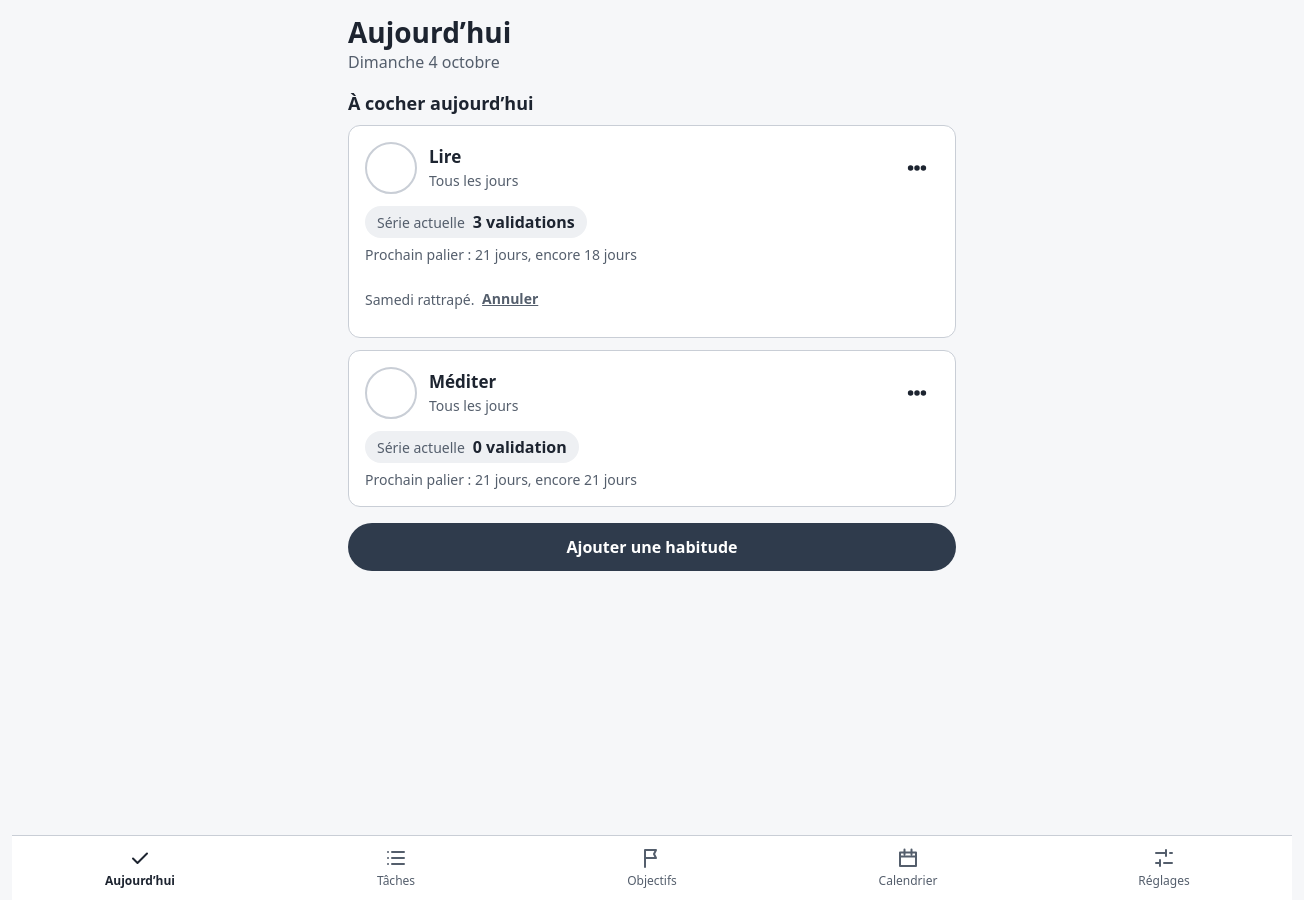
calendrier : vue globale › affiche le détail d’un jour touché : habitudes et tâches
expect the heading "Aujourd’hui" is shown: met, box [348,13,511,51]
Click the button "Calendrier" at (908, 868), box [780,836,1036,899]
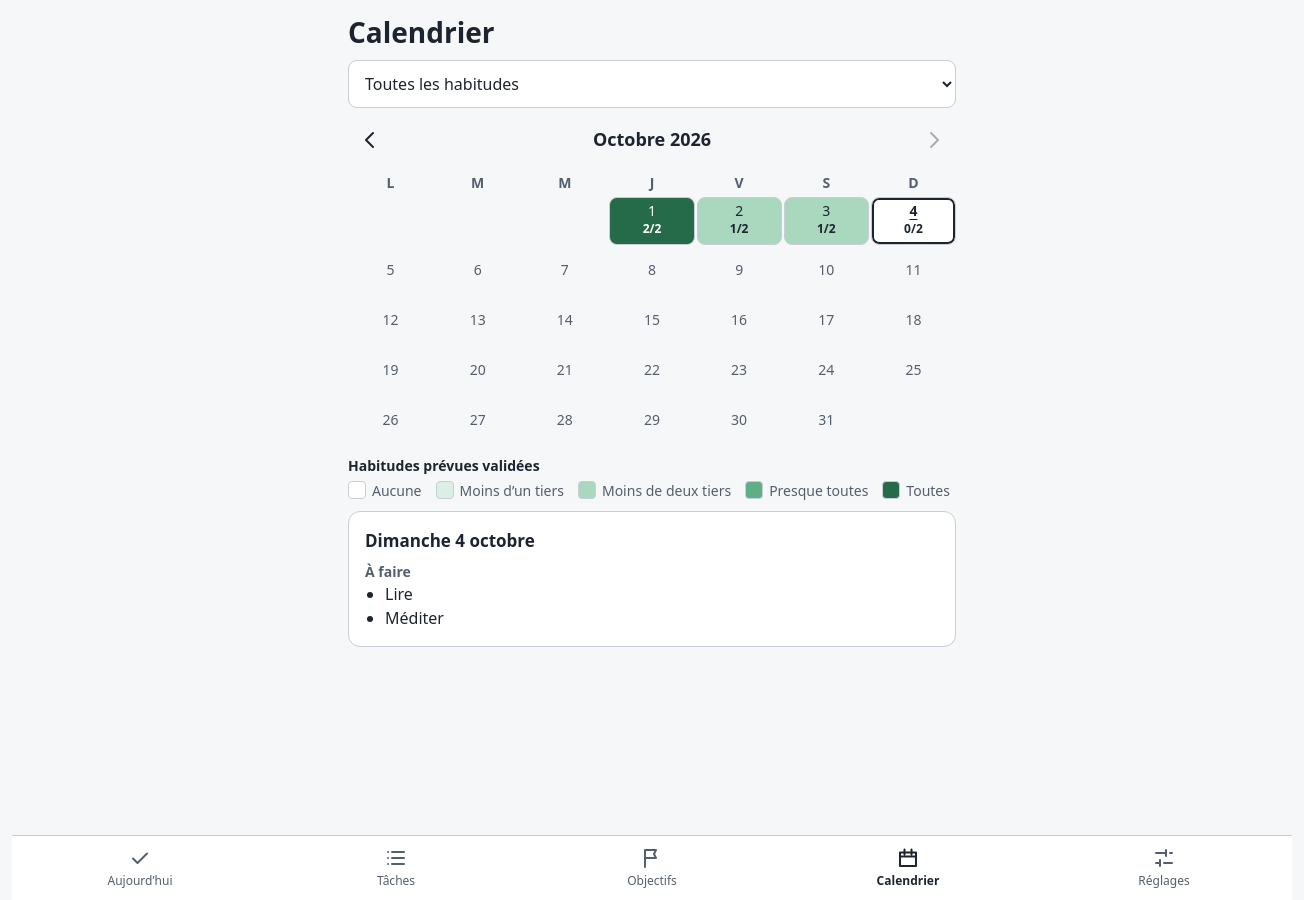
Click the button named "3 octobre" at (826, 221), box [784,197,869,245]
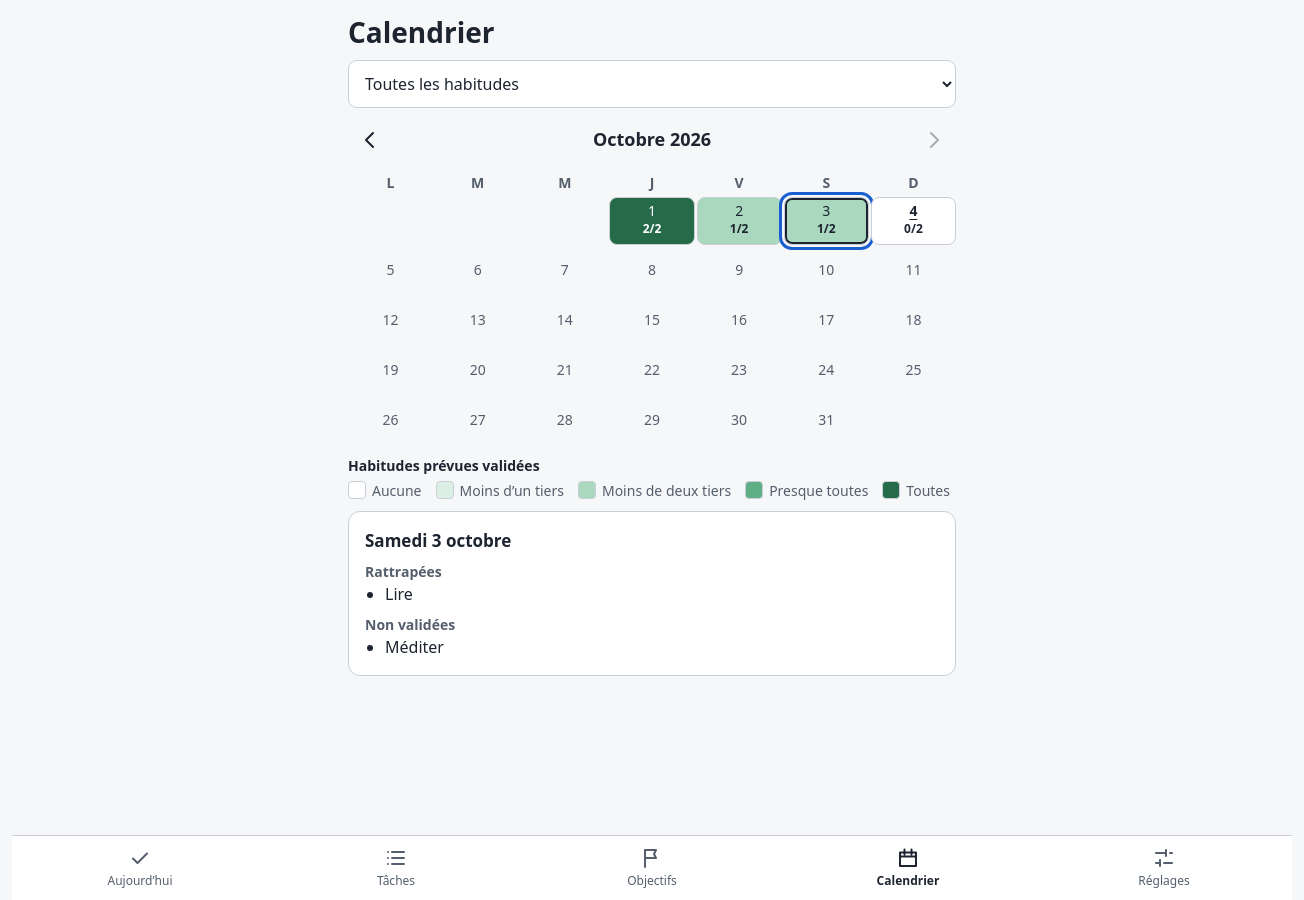
expect the heading "Rattrapées" is shown: met, box [365,562,442,581]
expect the heading "Non validées" is shown: met, box [365,615,455,634]
Click the button named "2 octobre" at (739, 221), box [697,197,782,245]
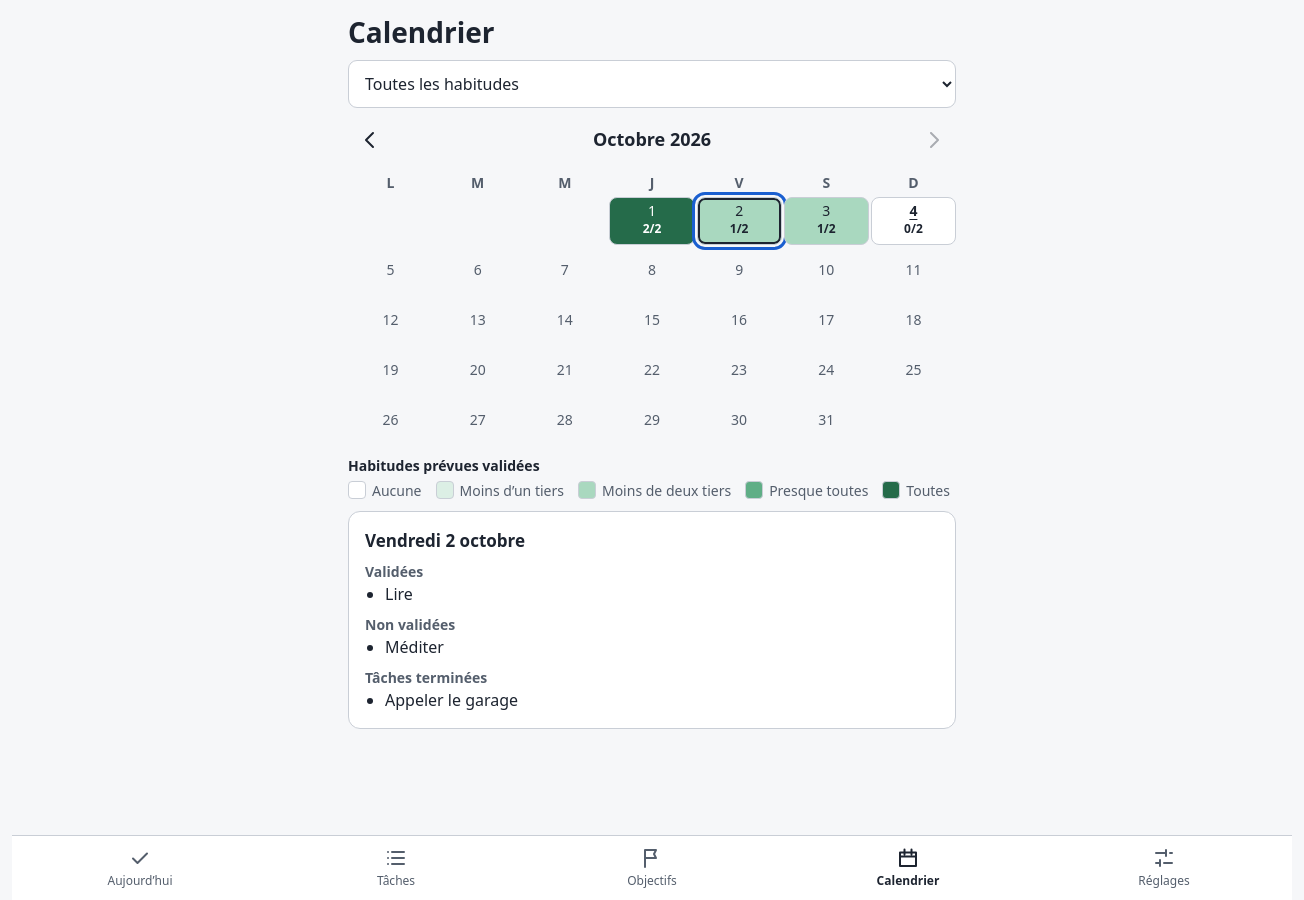
expect the list item "Appeler le garage" is shown: met, box [385,689,518,711]
